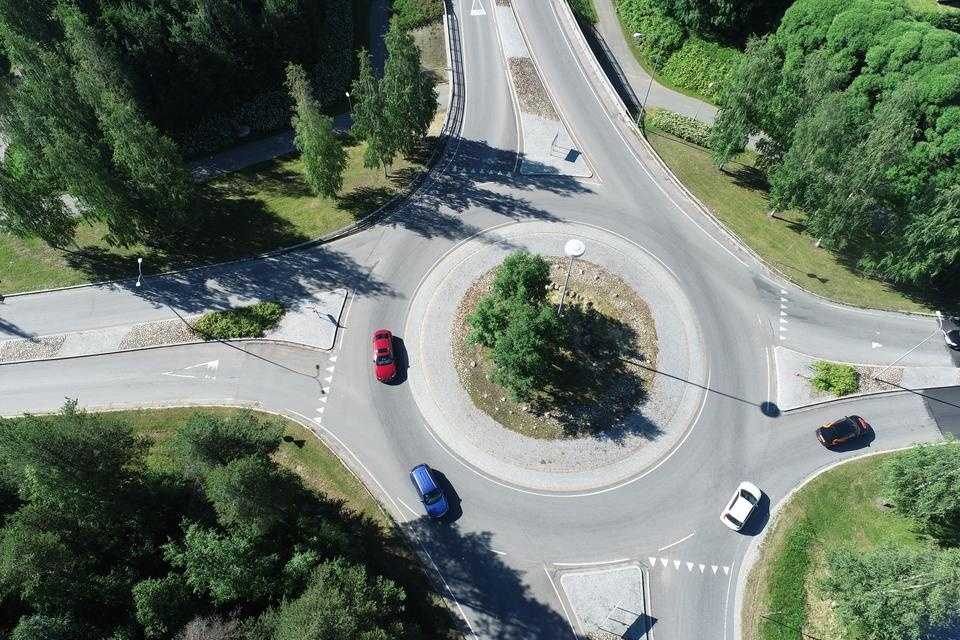roundabout: (296, 139, 828, 600)
